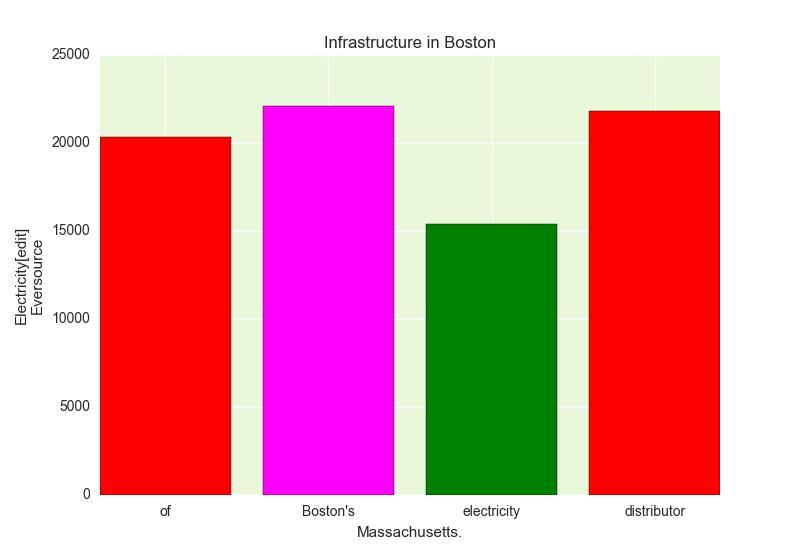axis: (0, 49, 90, 502)
rectangle: (263, 106, 394, 495), (589, 111, 720, 495), (100, 137, 231, 495), (426, 224, 557, 495)
